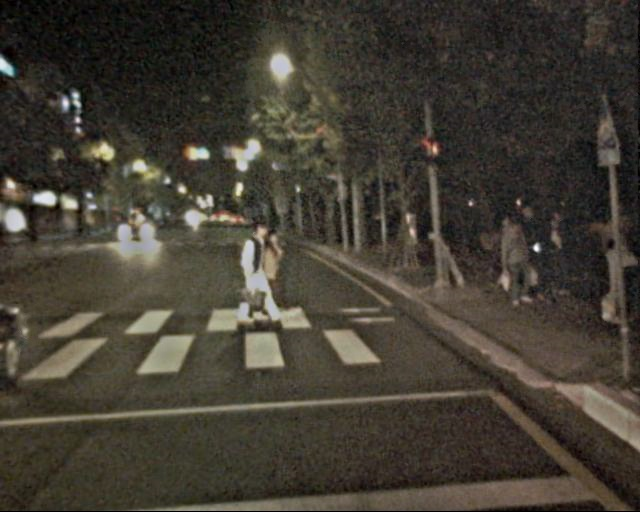person: (498, 211, 577, 305), (231, 222, 273, 324), (596, 231, 637, 330), (248, 229, 286, 322), (592, 209, 630, 302)
